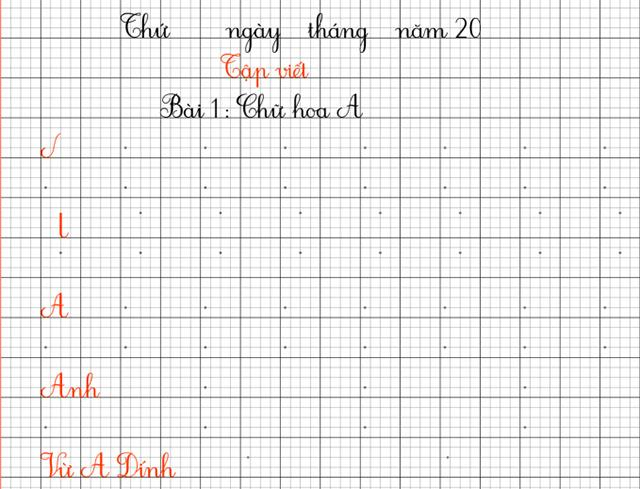text: (158, 92, 364, 123), (39, 451, 178, 482), (217, 51, 311, 90), (306, 13, 371, 54), (394, 14, 483, 42), (35, 371, 103, 403), (223, 21, 284, 53), (119, 12, 173, 41), (37, 291, 70, 322), (38, 131, 63, 162), (54, 211, 70, 241)
